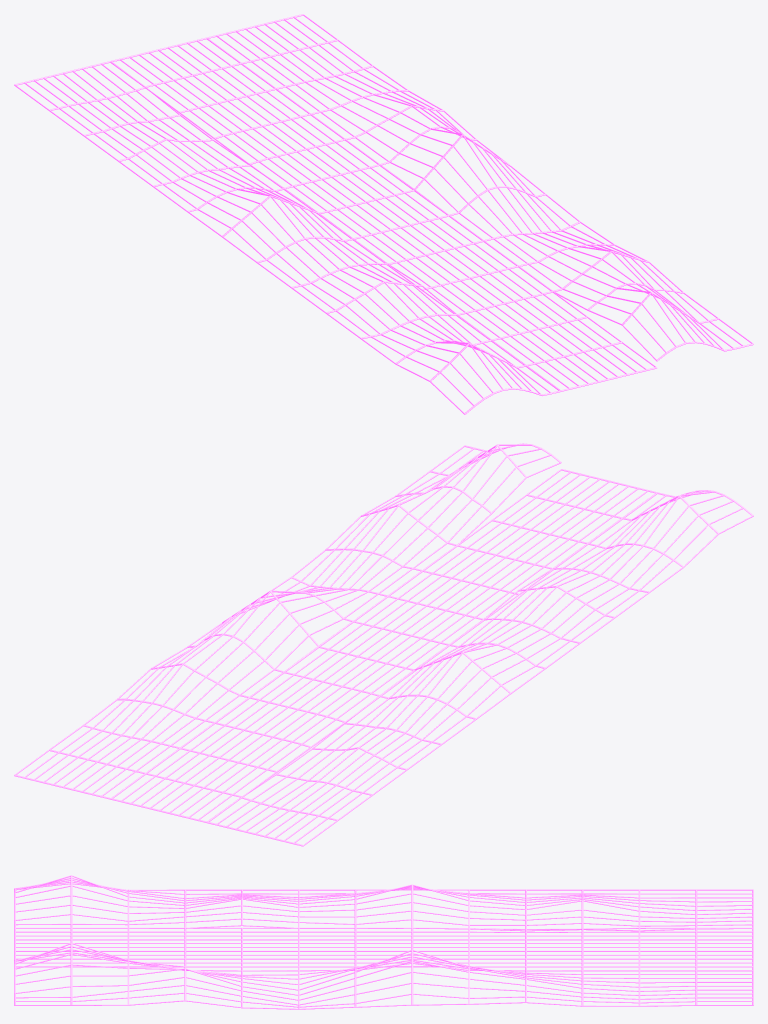
Rendered from pruebaSuelo.gltf.
The picture shows the model from 3 angles, top to bottom: view 1: azimuth 30°, elevation 25°; view 2: azimuth 150°, elevation 25°; view 3: azimuth 270°, elevation 25°; orthographic projection. The views are drawn at different scales.
Visible parts, largest first — view 1: Plane; view 2: Plane; view 3: Plane.
Boxes of the visible parts, <box> form: Plane: <box>14,14,753,414</box>; Plane: <box>14,443,753,846</box>; Plane: <box>14,875,753,1009</box>.
Size of the model in its own units: 447 by 78.75 by 1198.
